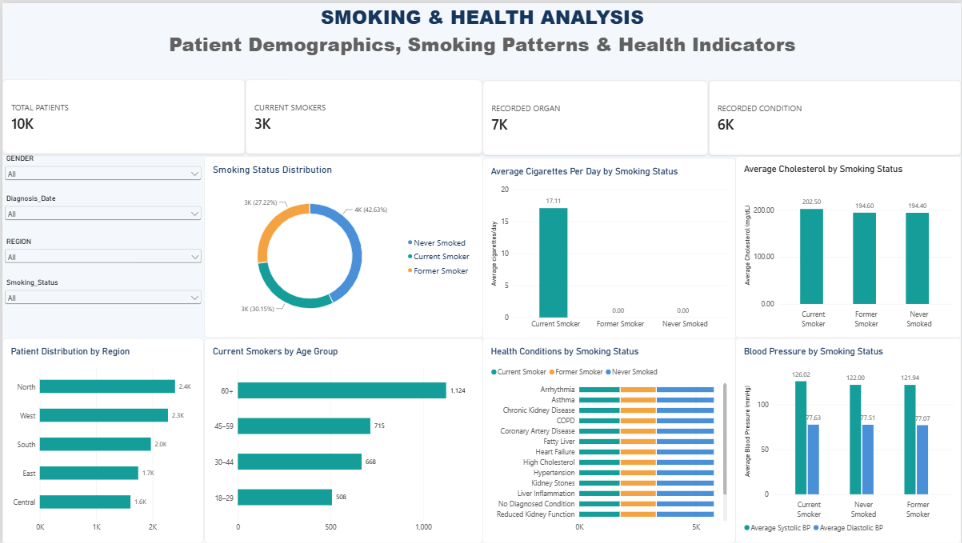

Layout of this report page (visuals, bound fields, positions):
{"tool":"powerbi","page":{"name":"Executive Overview","canvas":[1920,1080],"ordinal":1},"visuals":[{"type":"textbox","title":"SMOKING & HEALTH ANALYSIS","box":[0,0,1920,116.7],"z":0},{"type":"cardVisual","title":"TOTAL PATIENTS","fields":{"Data":["PatientData.Total Patients"]},"box":[0,152,486,150],"z":1000},{"type":"cardVisual","title":"TOTAL PATIENTS","fields":{"Data":["PatientData.Patients with Recorded Condition"]},"box":[1412,154,508,150],"z":2000},{"type":"cardVisual","title":"TOTAL PATIENTS","fields":{"Data":["PatientData.Patients with Recorded Organ"]},"box":[960,153.3,452,150],"z":3000},{"type":"cardVisual","title":"TOTAL PATIENTS","fields":{"Data":["PatientData.Current Smokers"]},"box":[486,152,474,150],"z":4000},{"type":"slicer","title":"GENDER","fields":{"Values":["PatientData.Gender"]},"box":[0,302.5,402.5,80],"z":5000},{"type":"slicer","fields":{"Values":["PatientData.Region"]},"box":[0,467.5,403.3,83.3],"z":6000},{"type":"slicer","fields":{"Values":["PatientData.Smoking_Status"]},"box":[0,550,402.5,80],"z":7000},{"type":"slicer","fields":{"Values":["PatientData.Diagnosis_Date"]},"box":[0,382.5,402.5,85],"z":8000},{"type":"donutChart","title":"\tSmoking Status Distribution","fields":{"Category":["PatientData.Smoking_Status"],"Y":["PatientData.Total Patients"]},"box":[403.3,306.7,556.7,363.3],"z":9000},{"type":"clusteredColumnChart","title":"Average Cigarettes Per Day by Smoking Status","fields":{"Category":["PatientData.Smoking_Status"],"Y":["PatientData.Average Cigarettes Per Day"]},"box":[960,310,506.7,363.3],"z":10000},{"type":"clusteredBarChart","fields":{"Category":["PatientData.Age Group"],"Y":["PatientData.Current Smokers"]},"box":[403.3,670,556.7,410],"z":11000},{"type":"barChart","title":"Health Conditions by Smoking Status","fields":{"Category":["PatientData.Health_Condition"],"Series":["PatientData.Smoking_Status"],"Y":["PatientData.Patients with Recorded Condition"]},"box":[960,670,506.7,410],"z":12000},{"type":"clusteredColumnChart","title":"Average Cholesterol by Smoking Status","fields":{"Category":["PatientData.Smoking_Status"],"Y":["PatientData.Average Cholesterol"]},"box":[1466.7,306.7,453.3,363.3],"z":13000},{"type":"clusteredColumnChart","title":"Blood Pressure by Smoking Status","fields":{"Category":["PatientData.Smoking_Status"],"Y":["PatientData.Average Systolic BP","PatientData.Average Diastolic BP"]},"box":[1466.7,670,453.3,410],"z":14000},{"type":"clusteredBarChart","title":"Patient Distribution by Region","fields":{"Category":["PatientData.Region"],"Y":["PatientData.Total Patients"]},"box":[0,670,402.5,410],"z":15000}]}

Visuals, with their boxes in screenshot pixels (x1, y1, x2, y2), scaled from the page's 1920x1080 canvas onto the 962x543 screenshot:
"SMOKING & HEALTH ANALYSIS" textbox: (0, 0, 961, 59)
"TOTAL PATIENTS" cardVisual: (0, 76, 244, 152)
"TOTAL PATIENTS" cardVisual: (707, 77, 961, 153)
"TOTAL PATIENTS" cardVisual: (481, 77, 707, 152)
"TOTAL PATIENTS" cardVisual: (244, 76, 481, 152)
"GENDER" slicer: (0, 152, 202, 192)
slicer - PatientData.Region: (0, 235, 202, 277)
slicer - PatientData.Smoking_Status: (0, 277, 202, 317)
slicer - PatientData.Diagnosis_Date: (0, 192, 202, 235)
"	Smoking Status Distribution" donutChart: (202, 154, 481, 337)
"Average Cigarettes Per Day by Smoking Status" clusteredColumnChart: (481, 156, 735, 339)
clusteredBarChart - PatientData.Age Group x PatientData.Current Smokers: (202, 337, 481, 542)
"Health Conditions by Smoking Status" barChart: (481, 337, 735, 542)
"Average Cholesterol by Smoking Status" clusteredColumnChart: (735, 154, 961, 337)
"Blood Pressure by Smoking Status" clusteredColumnChart: (735, 337, 961, 542)
"Patient Distribution by Region" clusteredBarChart: (0, 337, 202, 542)
